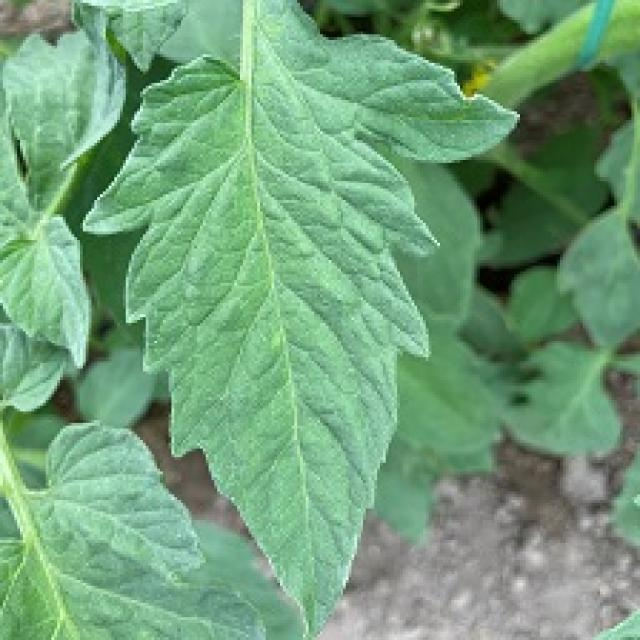Healthy: (0, 0, 553, 634), (0, 423, 262, 639)
